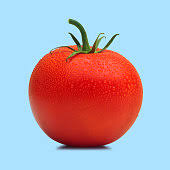tomato: (29, 46, 143, 145)
